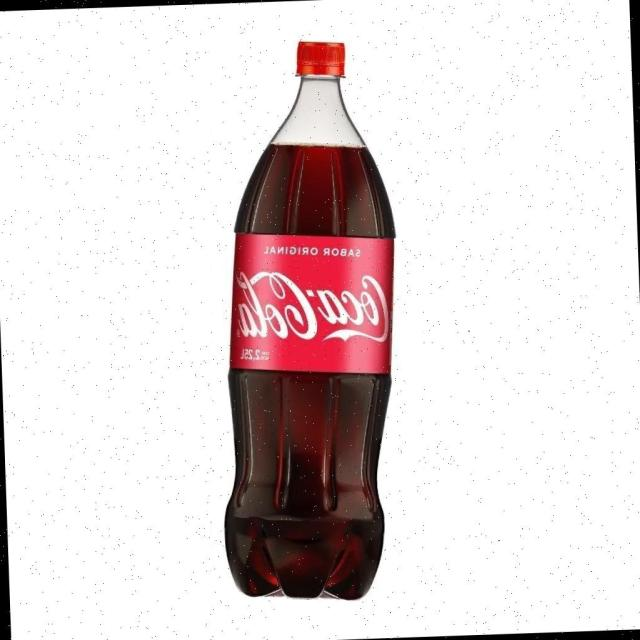coca-cola: (210, 26, 422, 605)
